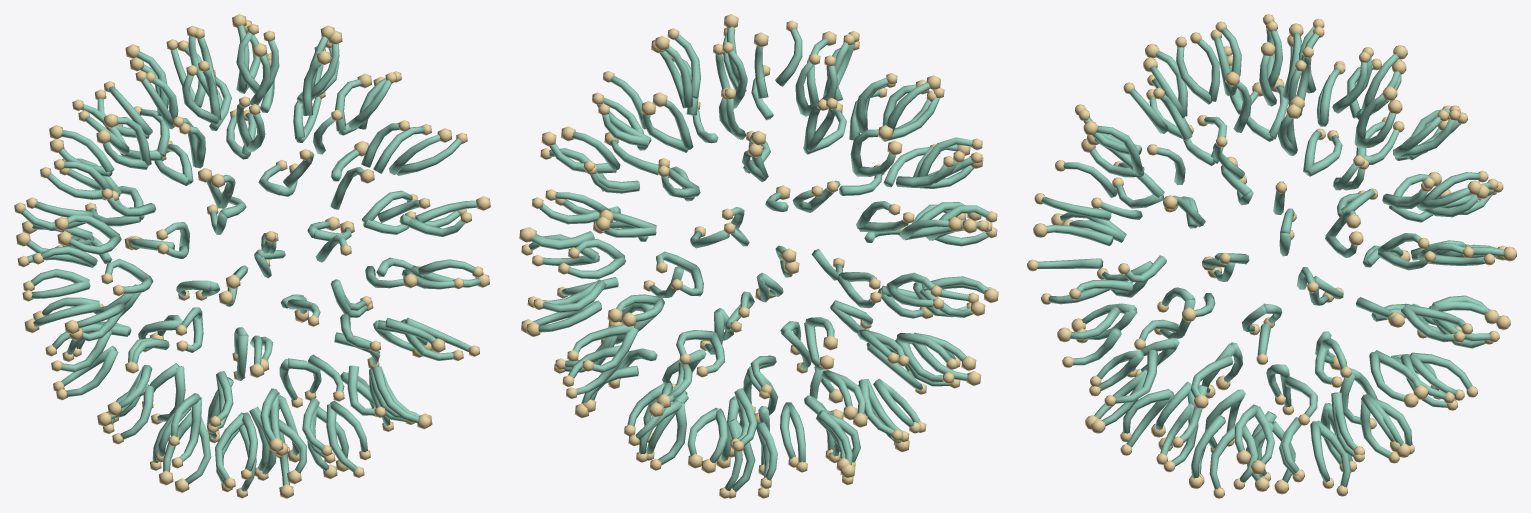
File: rosemary_corona.glb
3 views of the same model, side by side, from view 1: azimuth 30°, elevation 25°; view 2: azimuth 150°, elevation 25°; view 3: azimuth 270°, elevation 25° (orthographic). The views are drawn at different scales.
Visible parts, largest first — view 1: Corona_Strands_Full, Corona_Strands_Cutaway, Corona_Tips_Full, Corona_Tips_Cutaway; view 2: Corona_Strands_Full, Corona_Strands_Cutaway, Corona_Tips_Full, Corona_Tips_Cutaway; view 3: Corona_Strands_Full, Corona_Strands_Cutaway, Corona_Tips_Full, Corona_Tips_Cutaway.
Part boxes in pixels (<box>): Corona_Strands_Full: <box>26,32,480,491</box>; Corona_Strands_Cutaway: <box>21,25,420,484</box>; Corona_Tips_Full: <box>16,19,490,498</box>; Corona_Tips_Cutaway: <box>14,14,432,492</box>; Corona_Strands_Full: <box>531,26,988,491</box>; Corona_Strands_Cutaway: <box>528,42,988,491</box>; Corona_Tips_Full: <box>519,14,998,498</box>; Corona_Tips_Cutaway: <box>521,34,997,498</box>; Corona_Strands_Full: <box>1037,27,1497,489</box>; Corona_Strands_Cutaway: <box>1069,25,1504,487</box>; Corona_Tips_Full: <box>1027,21,1506,498</box>; Corona_Tips_Cutaway: <box>1061,14,1516,496</box>.
Size of the model in its own units: 2.8 by 2.81 by 2.79.
